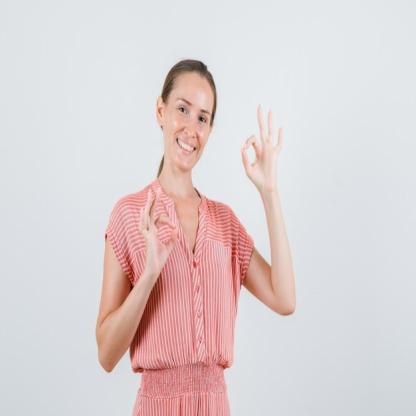ok: (238, 102, 286, 199), (138, 184, 180, 274)
